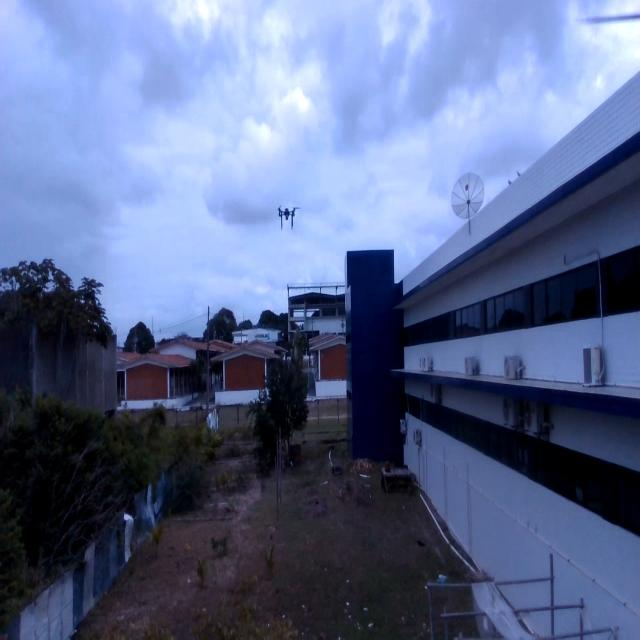-uav-: (272, 194, 308, 250)
